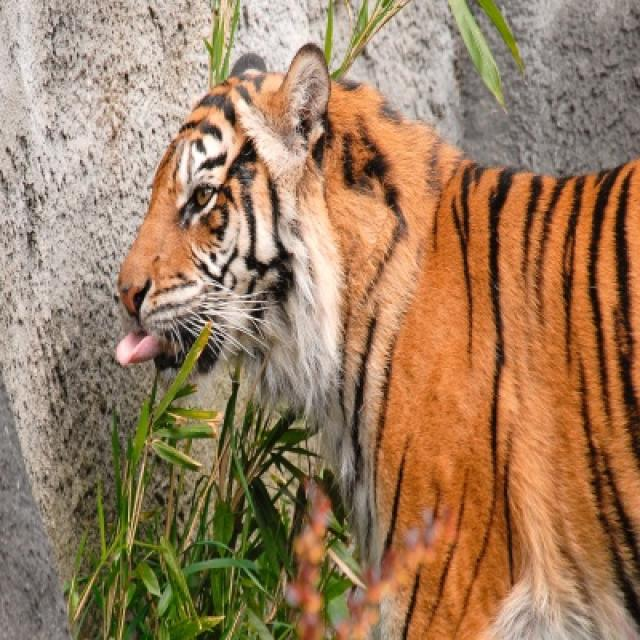Tiger: (117, 47, 636, 636)
